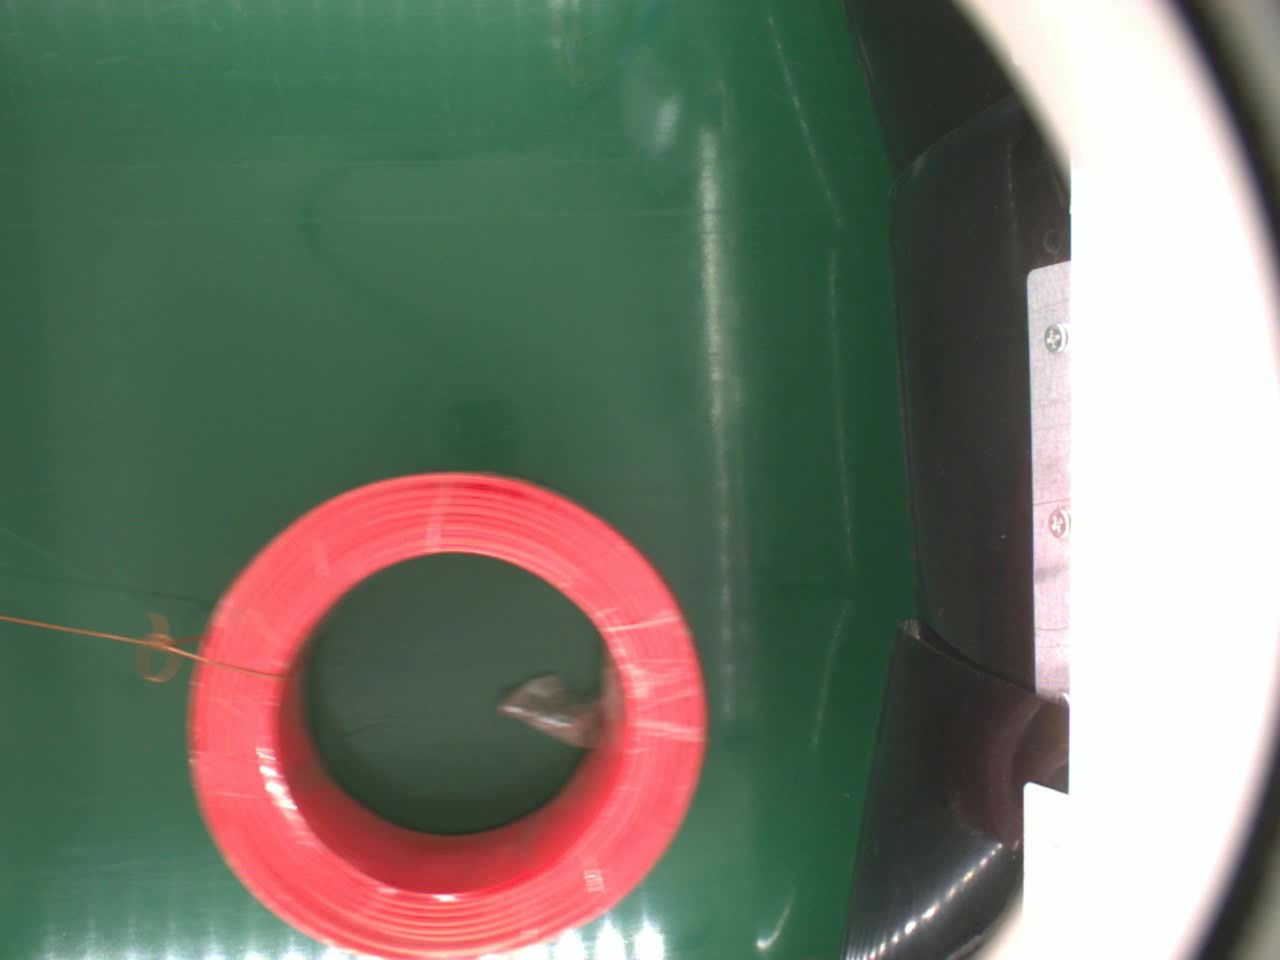red: (182, 470, 703, 960)
